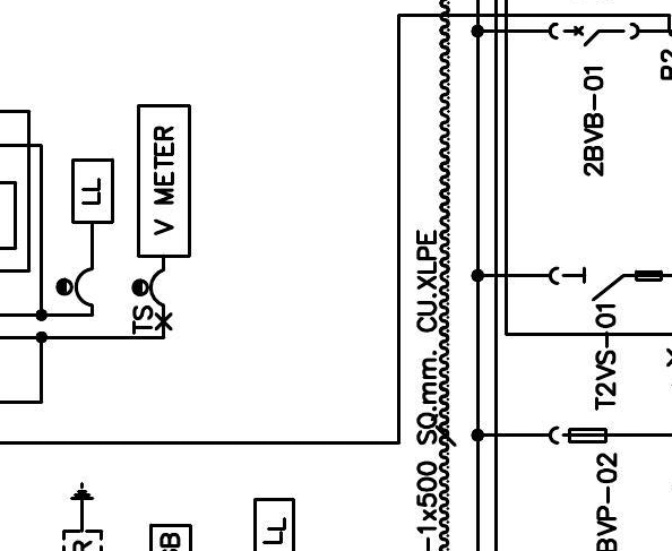22_breaker: (548, 22, 640, 48)
LL: (70, 157, 116, 225)
v_m_digital: (136, 103, 192, 259)
